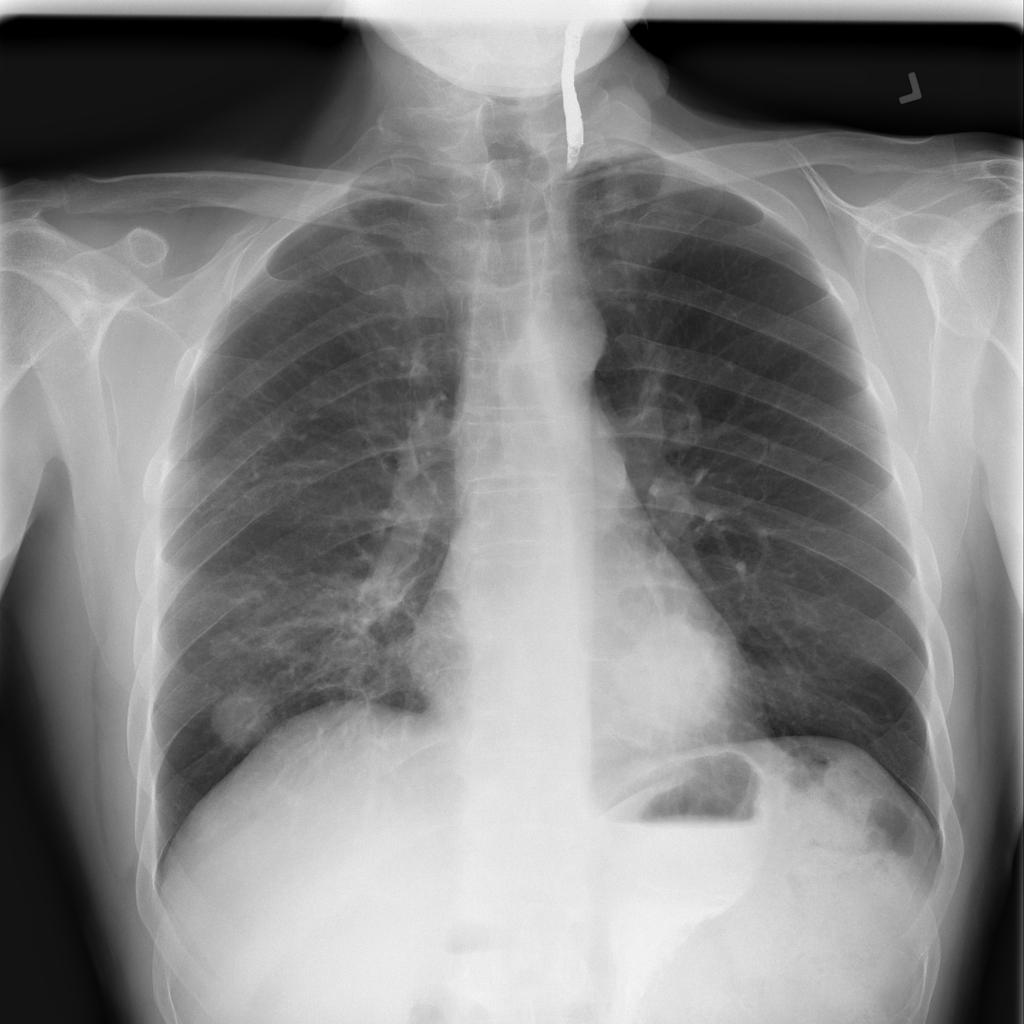nodule: (591, 602, 744, 741), (192, 663, 292, 767)
